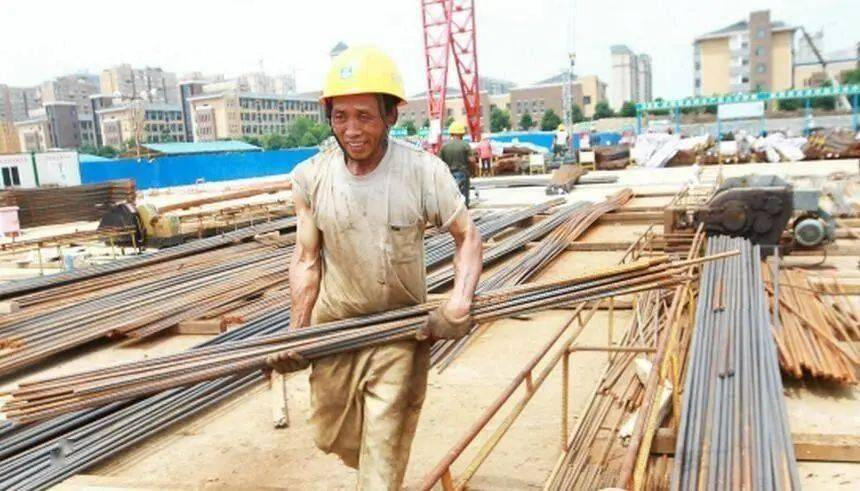safetyhat: (239, 39, 471, 473)
